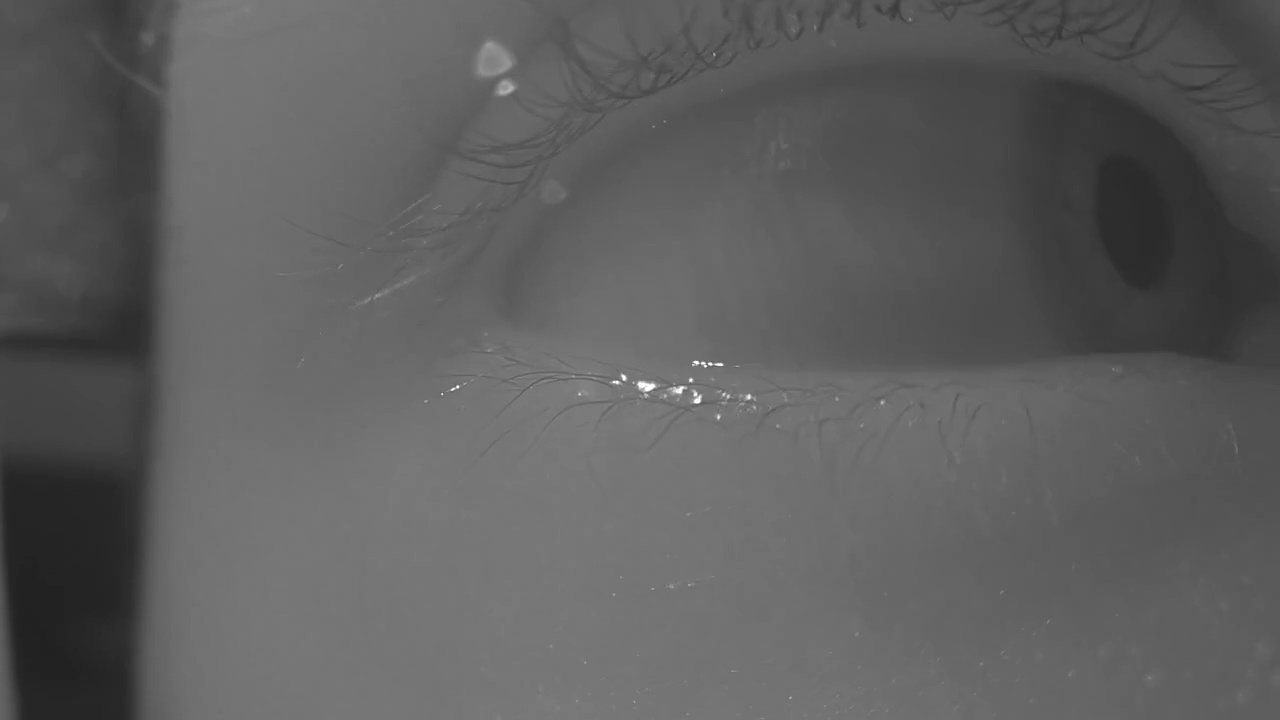pupil: (1096, 154, 1178, 294)
